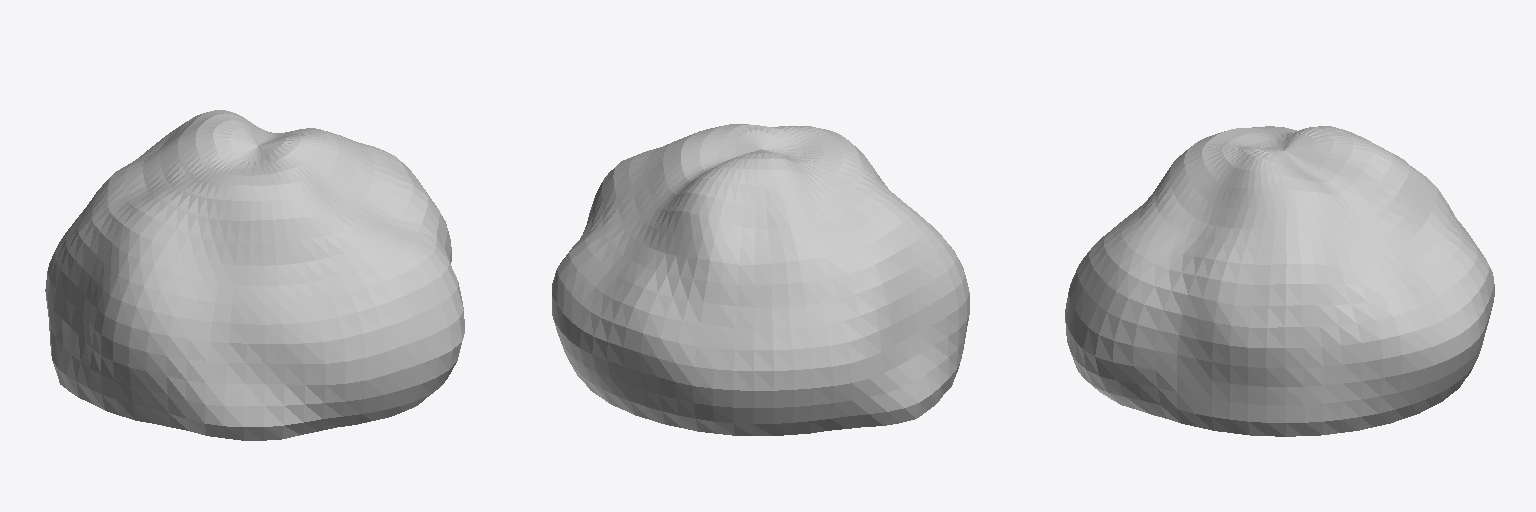
Rendered from blob.obj.
3 renders of one model, left to right at view 1: azimuth 30°, elevation 25°; view 2: azimuth 150°, elevation 25°; view 3: azimuth 270°, elevation 25°, orthographic.
Visible parts, largest first — view 1: Sphere; view 2: Sphere; view 3: Sphere.
Boxes of the visible parts, x1,y1,x2,y2 form: Sphere: [45, 110, 464, 440]; Sphere: [552, 124, 969, 435]; Sphere: [1065, 126, 1494, 436].
Size of the model in its own units: 5.24 by 3.33 by 5.52.